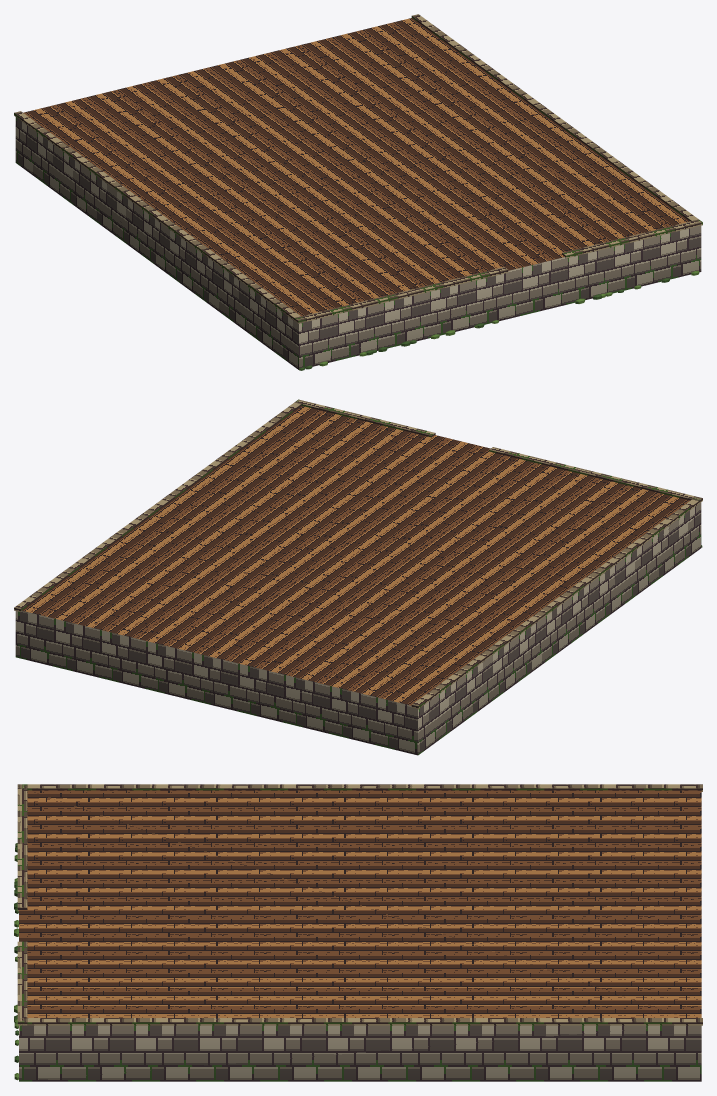
File: scene_upper_steps.glb
3 renders of one model, top to bottom at view 1: azimuth 30°, elevation 25°; view 2: azimuth 150°, elevation 25°; view 3: azimuth 270°, elevation 25°, orthographic. The views are drawn at different scales.
Visible parts, largest first — view 1: scene_upper_steps; view 2: scene_upper_steps; view 3: scene_upper_steps.
Boxes of the visible parts, x1,y1,x2,y2 form: scene_upper_steps: (14, 14, 702, 370); scene_upper_steps: (14, 399, 702, 755); scene_upper_steps: (14, 784, 702, 1081).
Size of the model in its own units: 21.1 by 2.57 by 25.84.
3 materials, 2 textured.
